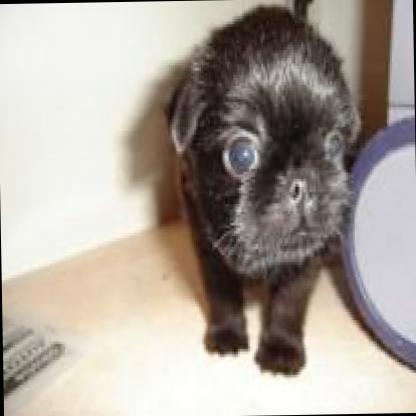Brabancon_griffon: (148, 0, 362, 385)
